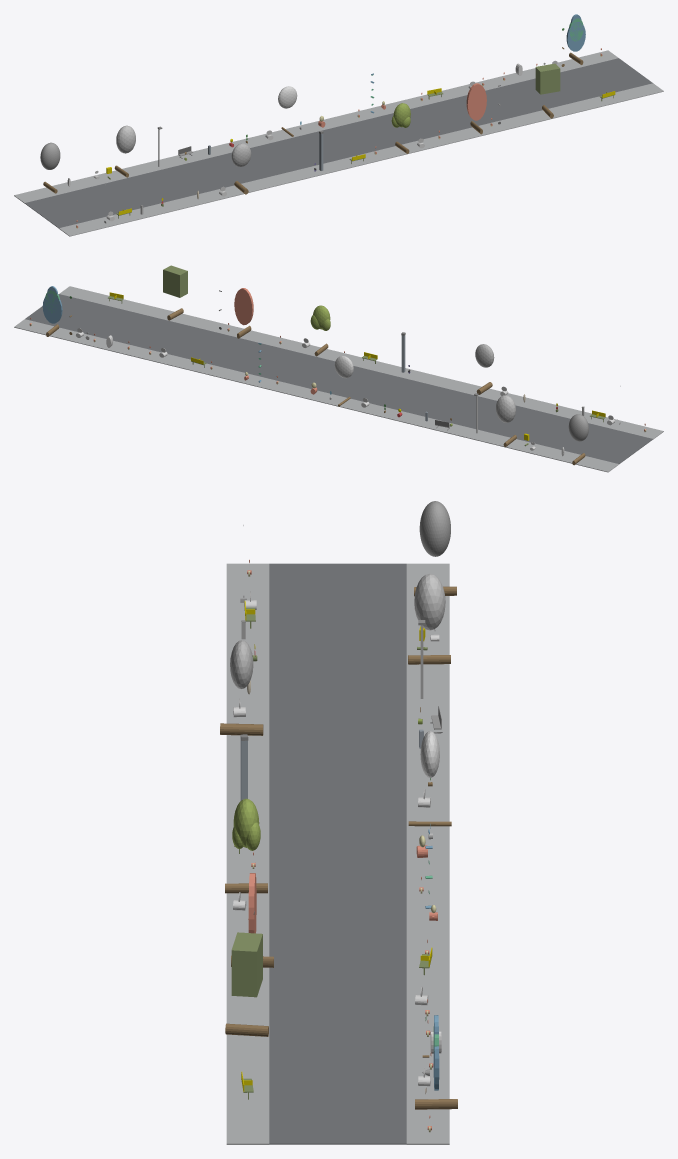
3 renders of one model, top to bottom at view 1: azimuth 30°, elevation 25°; view 2: azimuth 150°, elevation 25°; view 3: azimuth 270°, elevation 25°, orthographic. The views are drawn at different scales.
Visible parts, largest first — view 1: road_slab, sidewalk_left, sidewalk_right, inst_0024, inst_0023, inst_0025, inst_0019, inst_0018, inst_0022, inst_0020, inst_0021; view 2: road_slab, sidewalk_right, sidewalk_left, inst_0024, inst_0023, inst_0025, inst_0018, inst_0019, inst_0022, inst_0020, inst_0021; view 3: road_slab, sidewalk_right, sidewalk_left, inst_0024, inst_0019, inst_0022, inst_0018, inst_0020, inst_0021, inst_0025.
Boxes of the visible parts, left/top/right/bottom form: road_slab: left=24, top=58, right=652, bottom=228; sidewalk_left: left=59, top=83, right=663, bottom=236; sidewalk_right: left=14, top=50, right=618, bottom=203; inst_0024: left=535, top=63, right=560, bottom=118; inst_0023: left=466, top=83, right=486, bottom=134; inst_0025: left=566, top=14, right=585, bottom=64; inst_0019: left=114, top=125, right=135, bottom=177; inst_0018: left=40, top=142, right=60, bottom=193; inst_0022: left=391, top=103, right=410, bottom=153; inst_0020: left=231, top=143, right=251, bottom=194; inst_0021: left=278, top=86, right=297, bottom=136; road_slab: left=25, top=294, right=653, bottom=464; sidewalk_right: left=14, top=319, right=618, bottom=472; sidewalk_left: left=59, top=286, right=663, bottom=439; inst_0024: left=163, top=265, right=187, bottom=320; inst_0023: left=234, top=288, right=253, bottom=338; inst_0025: left=42, top=286, right=62, bottom=336; inst_0018: left=568, top=414, right=588, bottom=465; inst_0019: left=496, top=395, right=516, bottom=446; inst_0022: left=310, top=305, right=330, bottom=356; inst_0020: left=475, top=344, right=494, bottom=394; inst_0021: left=334, top=356, right=353, bottom=406; road_slab: left=269, top=563, right=406, bottom=1144; sidewalk_right: left=406, top=563, right=449, bottom=1144; sidewalk_left: left=226, top=563, right=269, bottom=1144; inst_0024: left=225, top=932, right=268, bottom=1036; inst_0019: left=408, top=573, right=450, bottom=664; inst_0022: left=225, top=798, right=267, bottom=893; inst_0018: left=414, top=501, right=456, bottom=596; inst_0020: left=220, top=640, right=263, bottom=735; inst_0021: left=408, top=731, right=451, bottom=826; inst_0025: left=415, top=1015, right=457, bottom=1109.
Size of the model in its own units: 80 by 6.08 by 13.87.
